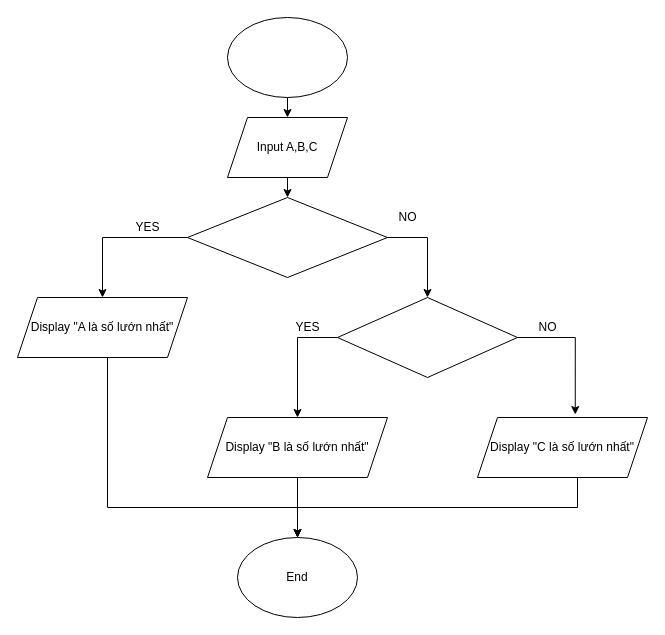
The diagram is 665 pixels wide and 635 high, and some of its shapes have lost their labels. The shapes that lost their labels are listed below. From the top down, each one's box as (x1, y1, x2, y2) in pixels, then its label:
(226, 16, 348, 98): Begin
(186, 196, 388, 278): A>B and A>C
(336, 296, 518, 378): B>C
